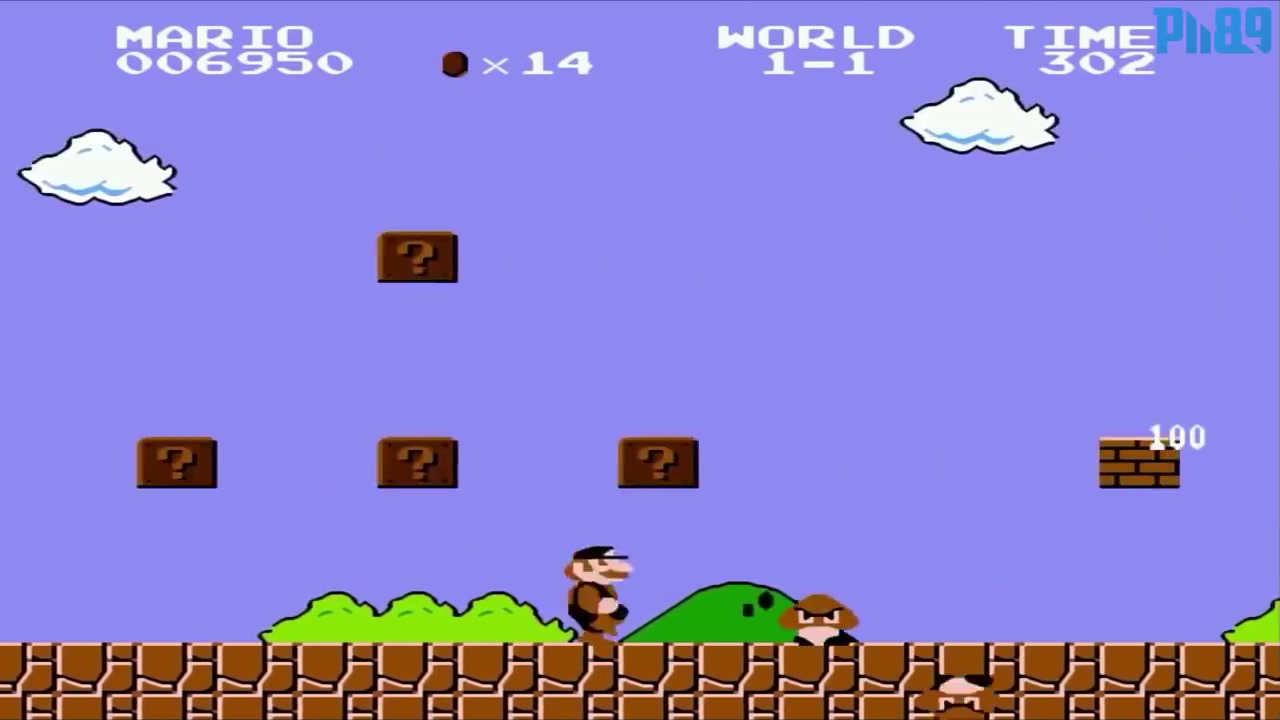mario: (558, 536, 646, 645)
